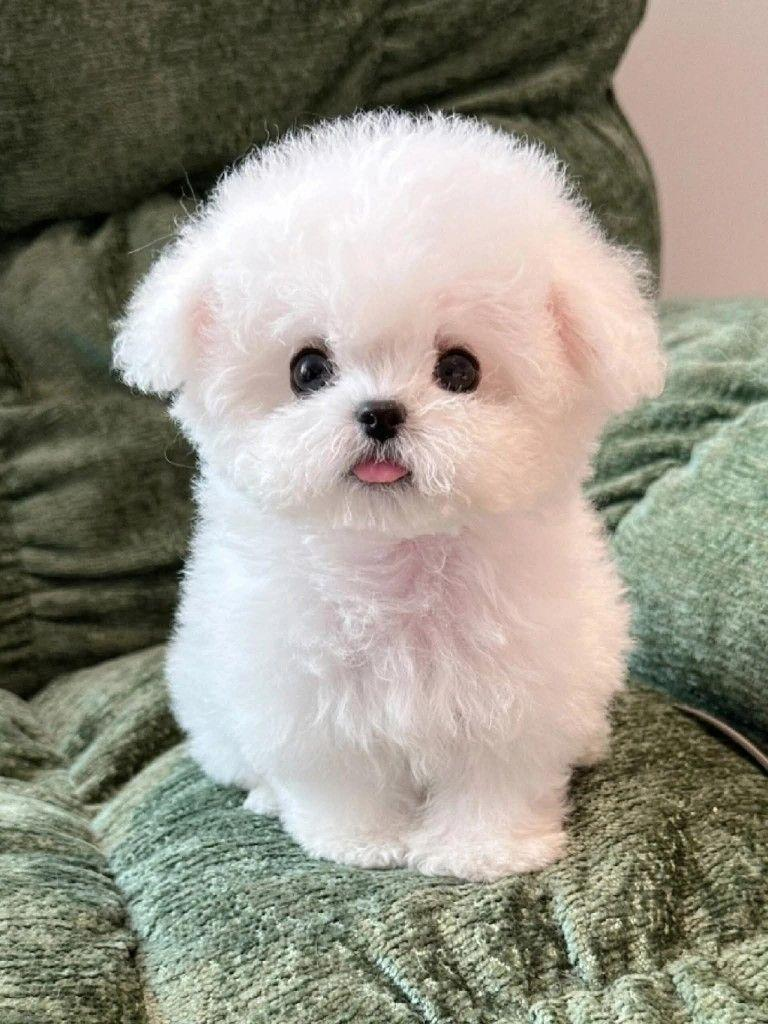puppy-dog: (109, 104, 668, 885)
